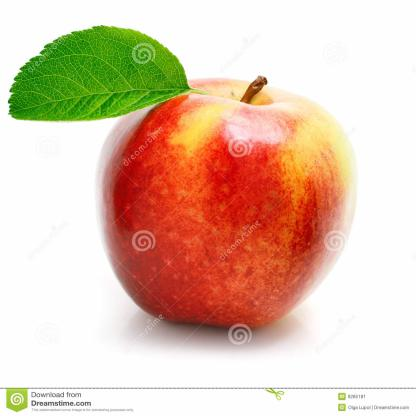apple: (91, 73, 365, 346)
